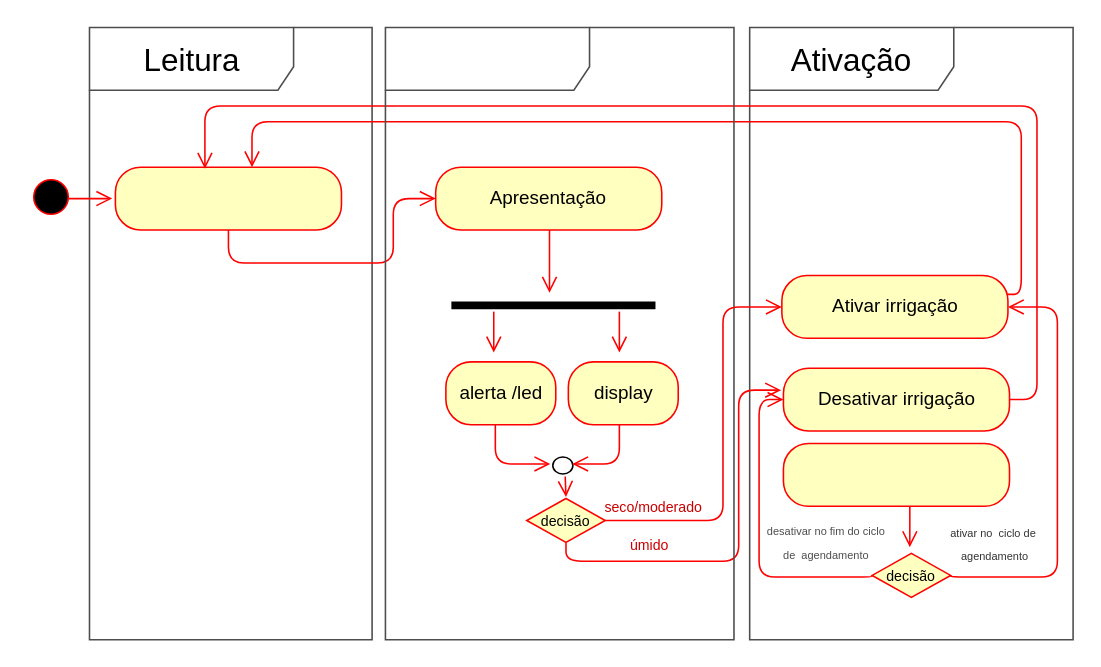
Image size: 1101x667. Some labels were removed from this diagram. Each missing label, with the centre of its shape:
"Agendamento" goes at (x=896, y=474).
"Coleta" goes at (x=227, y=198).
"Controle" goes at (x=559, y=333).
